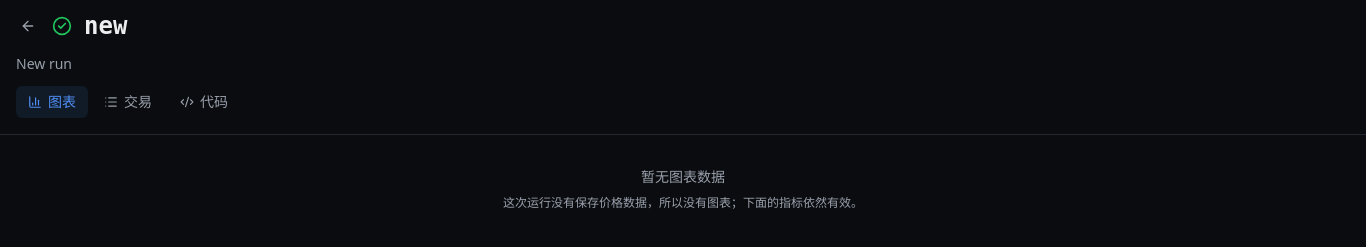
it: RunDetail page › does not let an older route load replace the current run or code
Expected: the text "New run" is shown, [16,54,72,73]
Click the tab "代码" at (204, 102), box [168,86,240,118]
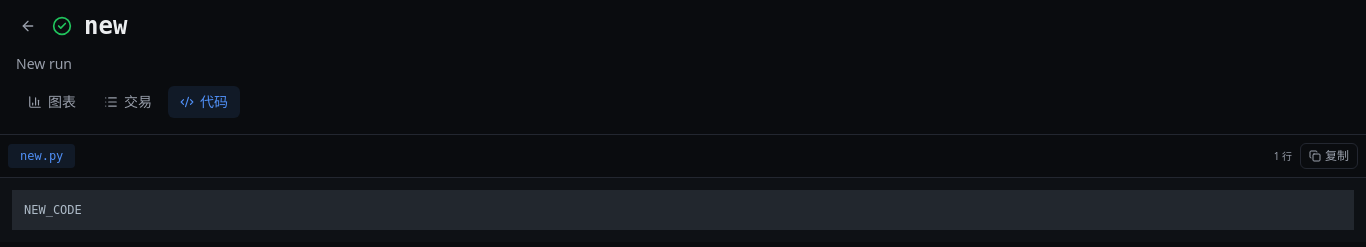
Expected: the text "NEW_CODE" is shown, [12,190,1354,230]
